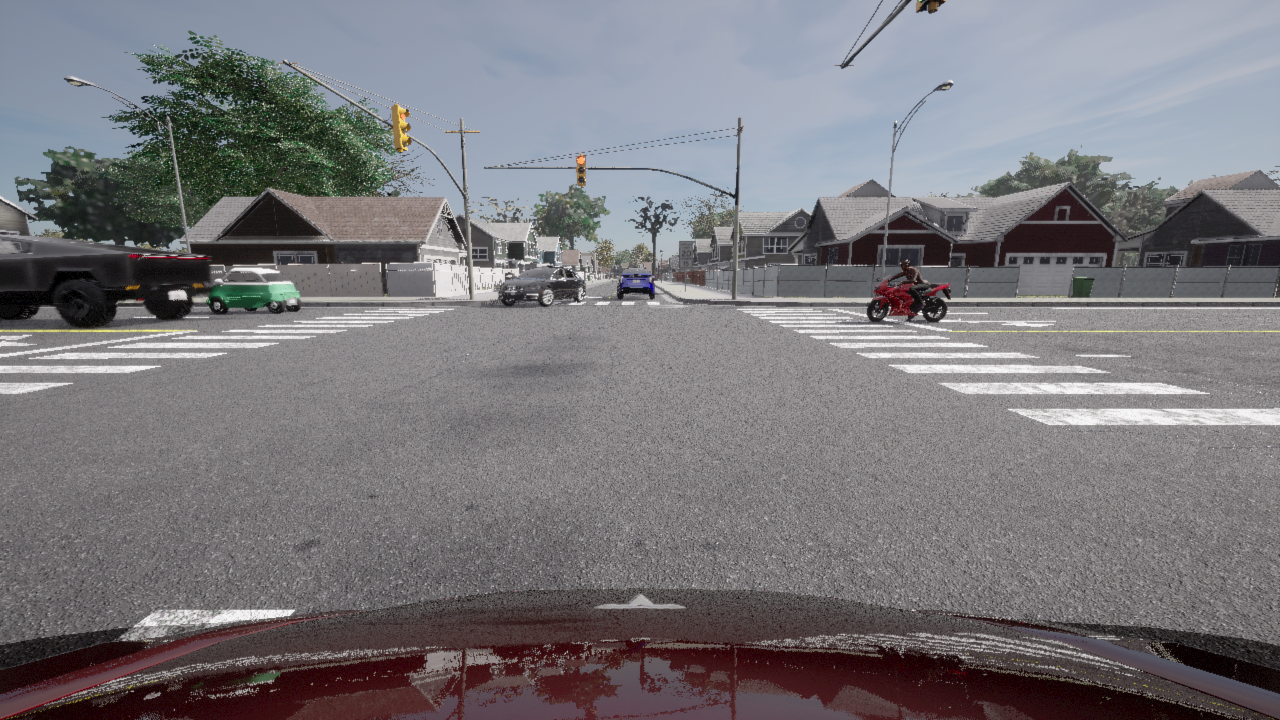cyclist: (0, 588, 1279, 719), (206, 268, 301, 313), (867, 275, 950, 321), (498, 266, 585, 306), (617, 267, 654, 298)
pedestrian: (339, 261, 343, 263)
